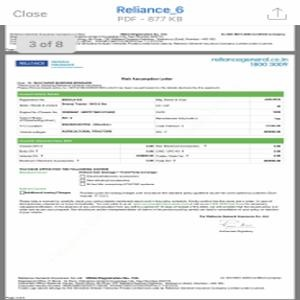image: (14, 57, 49, 68)
table: (17, 90, 284, 137), (15, 138, 286, 165)
text: (13, 196, 279, 214), (16, 275, 281, 290), (209, 56, 290, 69)
